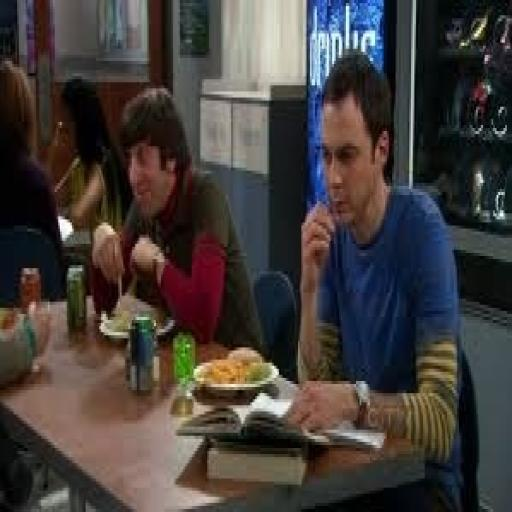eating: (286, 46, 464, 503), (91, 82, 267, 354)
